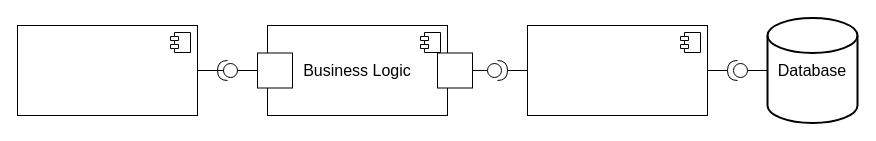
This 876x141 diagram has some shape labels left out. The centre of each missing label's shape, as x and y in pixels:
Database Access: point 617,70
UI: point 107,70
